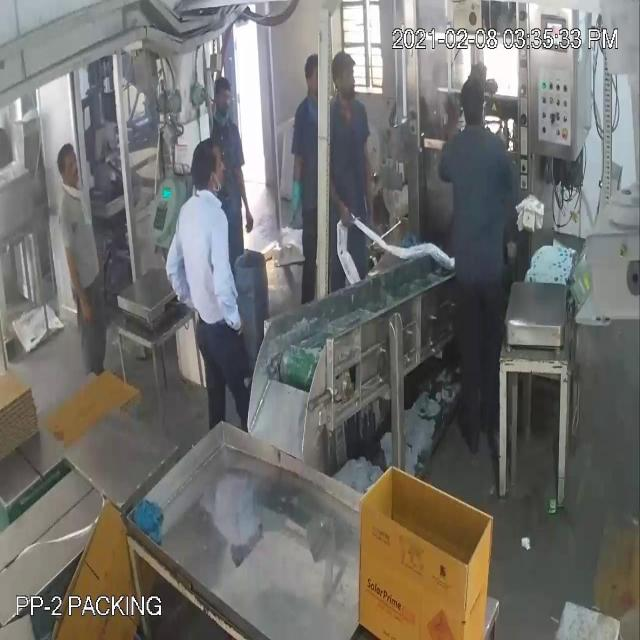No_Gloves: (22, 84, 369, 288)
